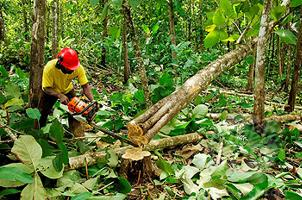person: (32, 46, 101, 145)
